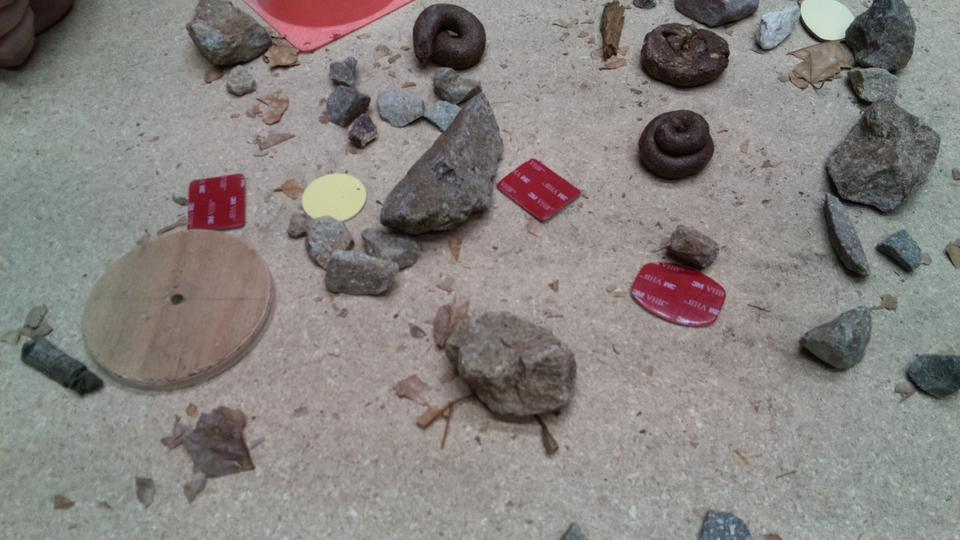poop: (638, 20, 731, 92), (634, 107, 718, 185), (408, 2, 491, 71)
